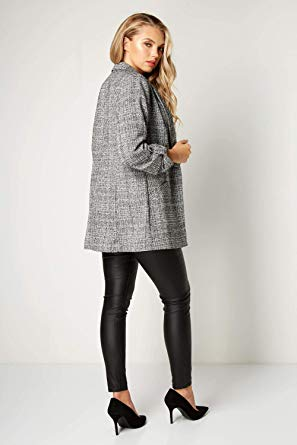F_W_suit jacket: (76, 62, 203, 254)
